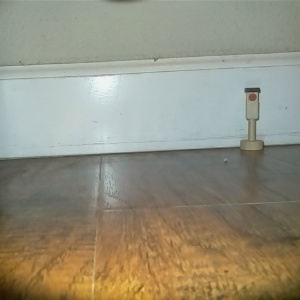traffic light red: (239, 86, 264, 152)
